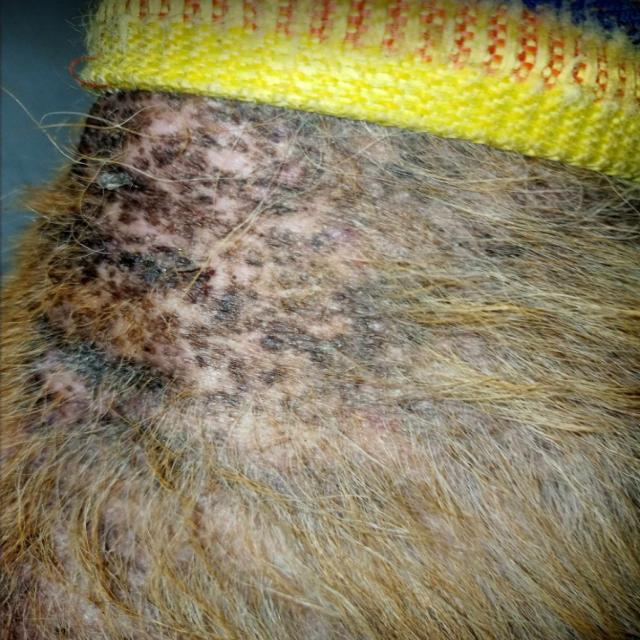demodicosis: (19, 116, 409, 450)
